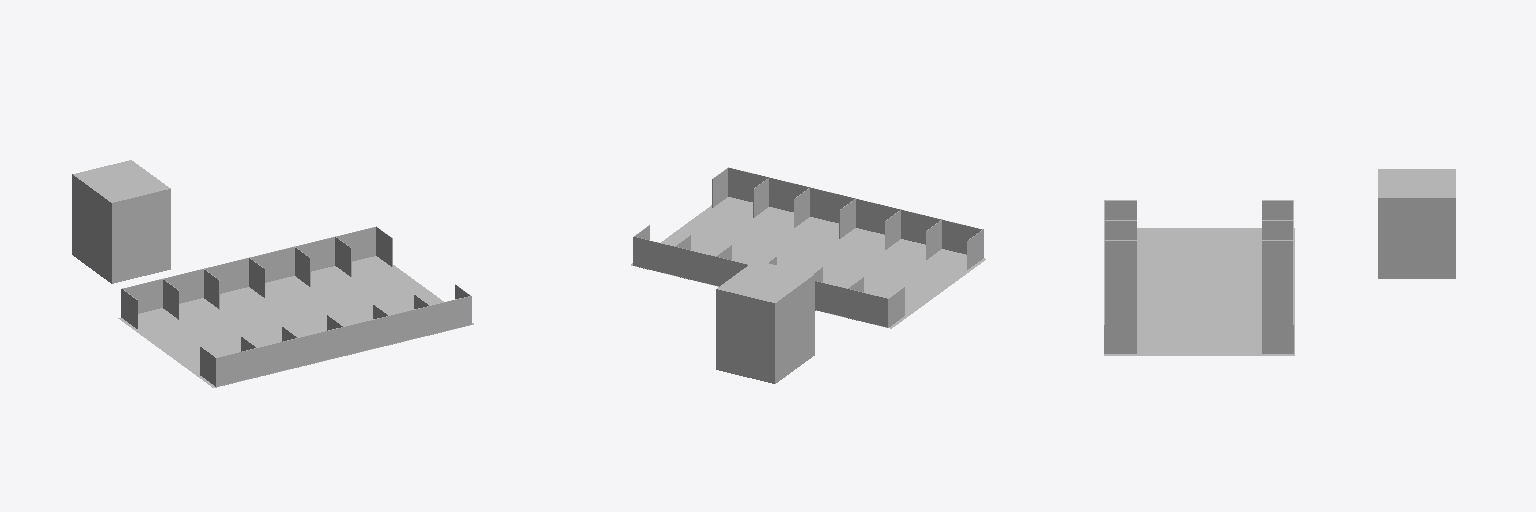
Rendered from obj.trin.obj.
The picture shows the model from 3 angles: view 1: azimuth 30°, elevation 25°; view 2: azimuth 150°, elevation 25°; view 3: azimuth 270°, elevation 25°; orthographic projection.
Parts seen in each view (by area): view 1: pPlane1, pCube18, pCube17, pCube16; view 2: pPlane1, pCube18, pCube17, pCube16; view 3: pPlane1, pCube18, pCube8, pCube15, pCube4, pCube11, pCube5, pCube12, pCube1, pCube2, pCube6, pCube7 (+4 smaller).
Boxes of the visible parts, x1,y1,x2,y2 form: pPlane1: [118, 256, 473, 387]; pCube18: [72, 160, 170, 283]; pCube17: [217, 296, 470, 386]; pCube16: [122, 227, 375, 313]; pPlane1: [631, 197, 985, 328]; pCube18: [716, 260, 814, 383]; pCube17: [728, 168, 982, 254]; pCube16: [634, 237, 887, 327]; pPlane1: [1104, 228, 1294, 355]; pCube18: [1378, 169, 1455, 278]; pCube8: [1104, 325, 1136, 353]; pCube15: [1262, 325, 1293, 353]; pCube4: [1104, 240, 1136, 262]; pCube11: [1262, 240, 1293, 262]; pCube5: [1105, 263, 1136, 284]; pCube12: [1262, 263, 1292, 284]; pCube1: [1104, 200, 1136, 219]; pCube2: [1104, 220, 1136, 239]; pCube6: [1105, 285, 1136, 304]; pCube7: [1105, 305, 1136, 324].
Size of the model in its own units: 57.54 by 17 by 67.19.